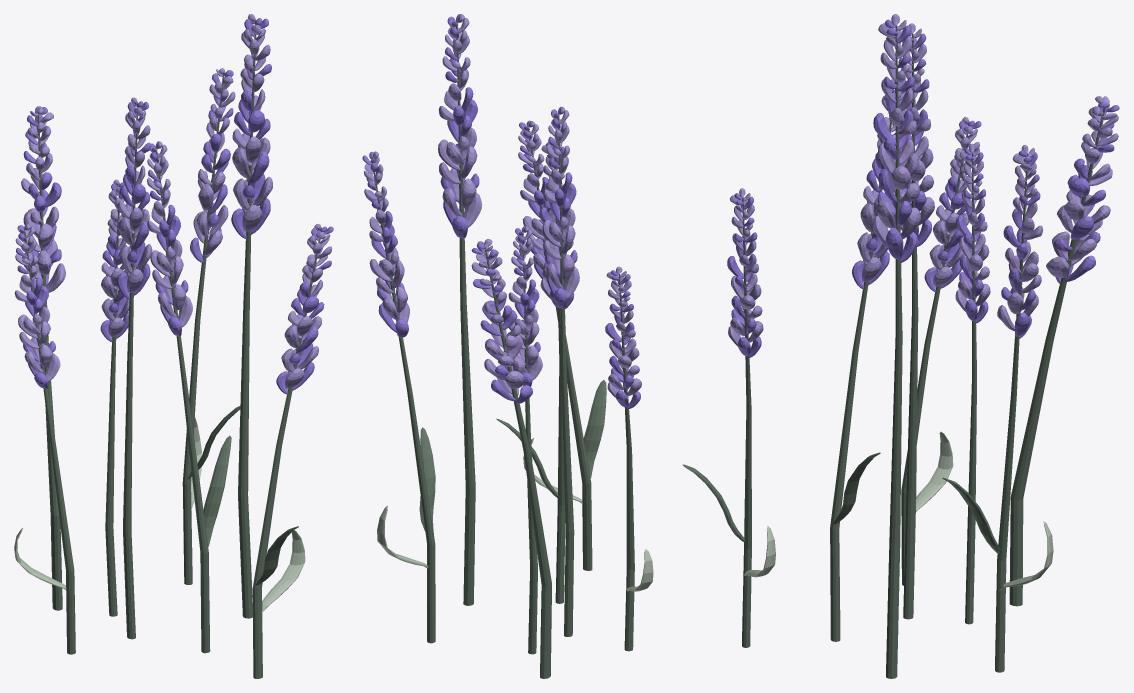
Rendered from Lavender.fbx.
3 views of the same model, side by side, from view 1: azimuth 30°, elevation 25°; view 2: azimuth 150°, elevation 25°; view 3: azimuth 270°, elevation 25° (orthographic). The views are drawn at different scales.
Visible parts, largest first — view 1: Lavender_Flower, Lavender_Stem, Lavender_Leaf; view 2: Lavender_Flower, Lavender_Stem, Lavender_Leaf; view 3: Lavender_Flower, Lavender_Stem, Lavender_Leaf.
Part boxes in pixels (bbox=[...]): Lavender_Flower: bbox=[14, 14, 333, 394]; Lavender_Stem: bbox=[24, 34, 320, 678]; Lavender_Leaf: bbox=[14, 406, 305, 612]; Lavender_Flower: bbox=[362, 14, 641, 409]; Lavender_Stem: bbox=[371, 21, 634, 678]; Lavender_Leaf: bbox=[377, 380, 653, 591]; Lavender_Flower: bbox=[727, 14, 1119, 357]; Lavender_Stem: bbox=[742, 25, 1105, 678]; Lavender_Leaf: bbox=[682, 432, 1053, 590].
Size of the model in its own units: 76.81 by 172 by 102.
